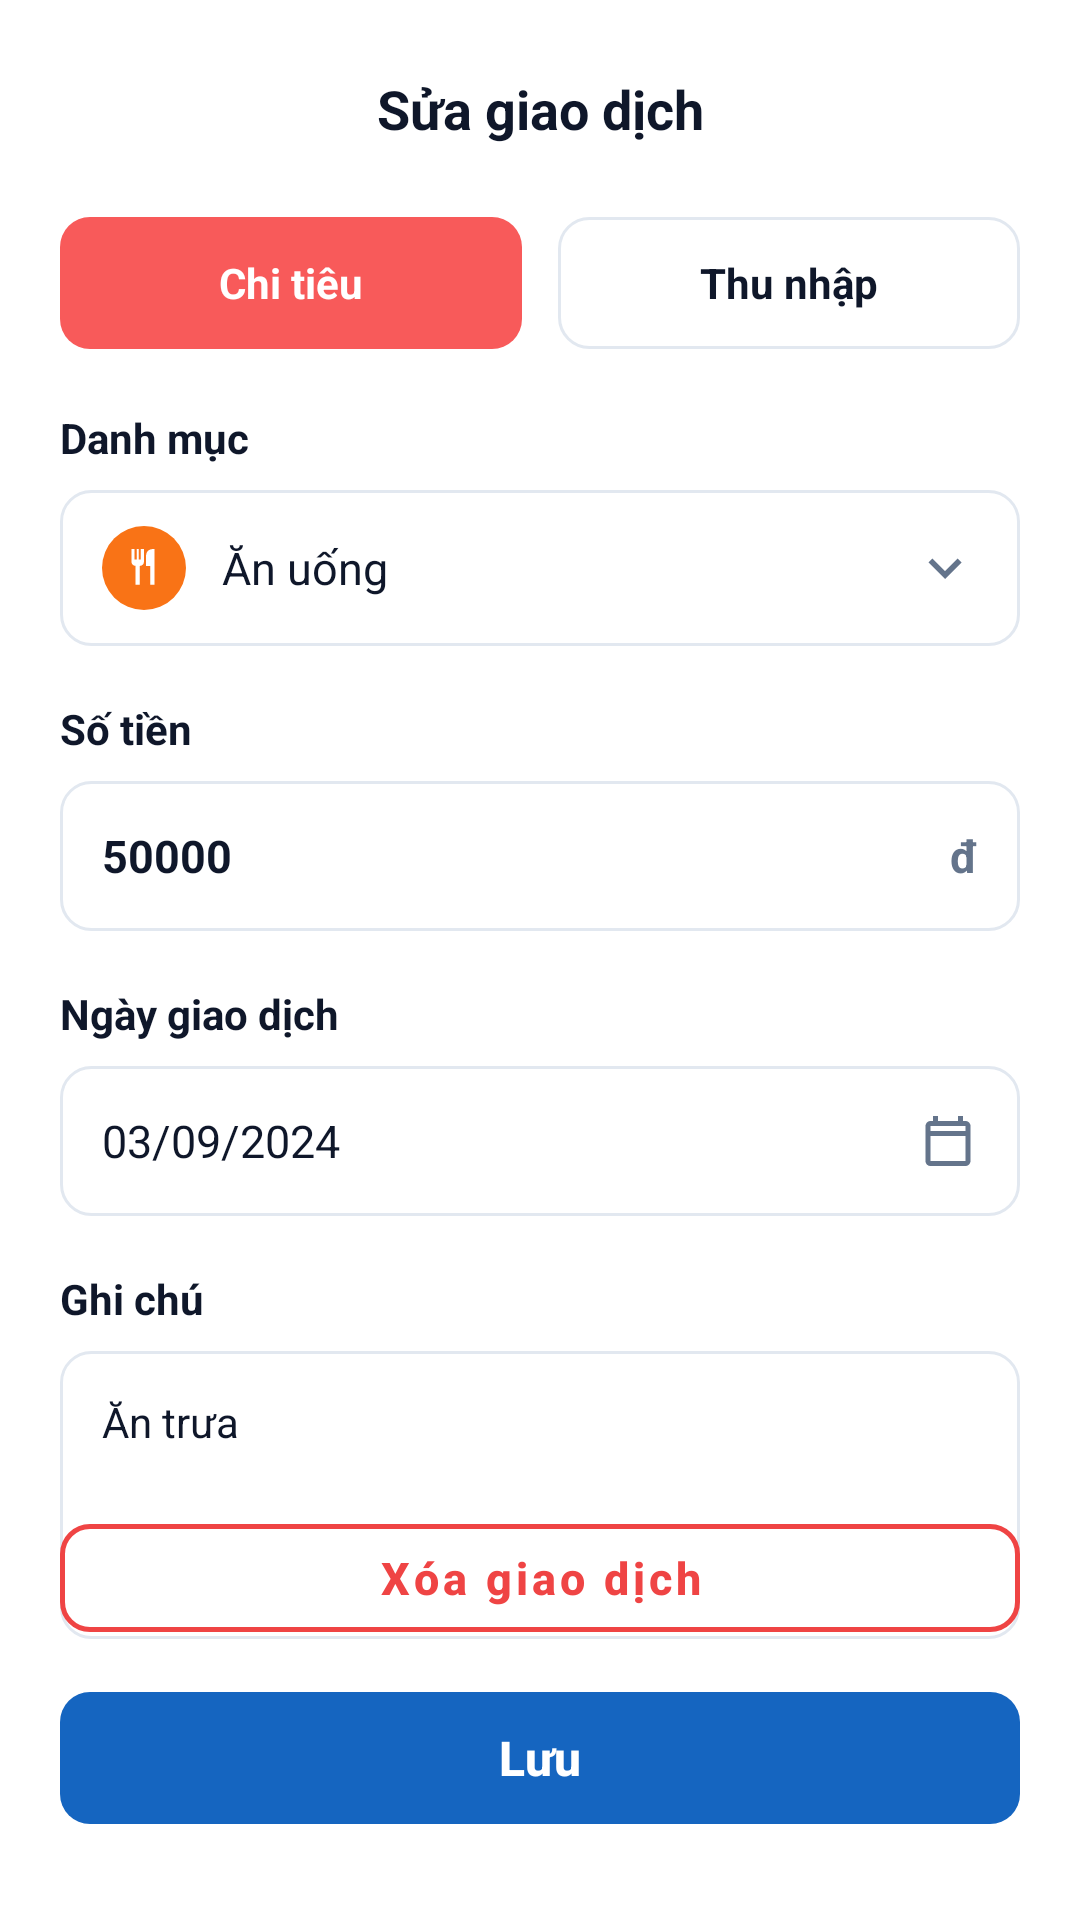

Screen size 1080*1920. Icon name, then its box in pixels as (x1, y1, x2, y2):
Chọn danh mục: (928, 558, 962, 579)
Chọn ngày: (925, 1116, 971, 1166)
